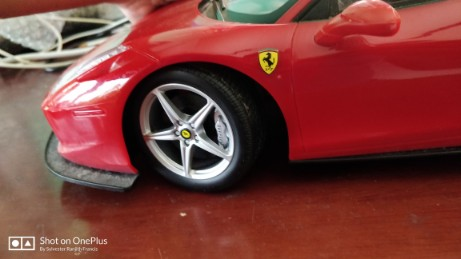unaligned_wheel: (130, 70, 255, 202)
